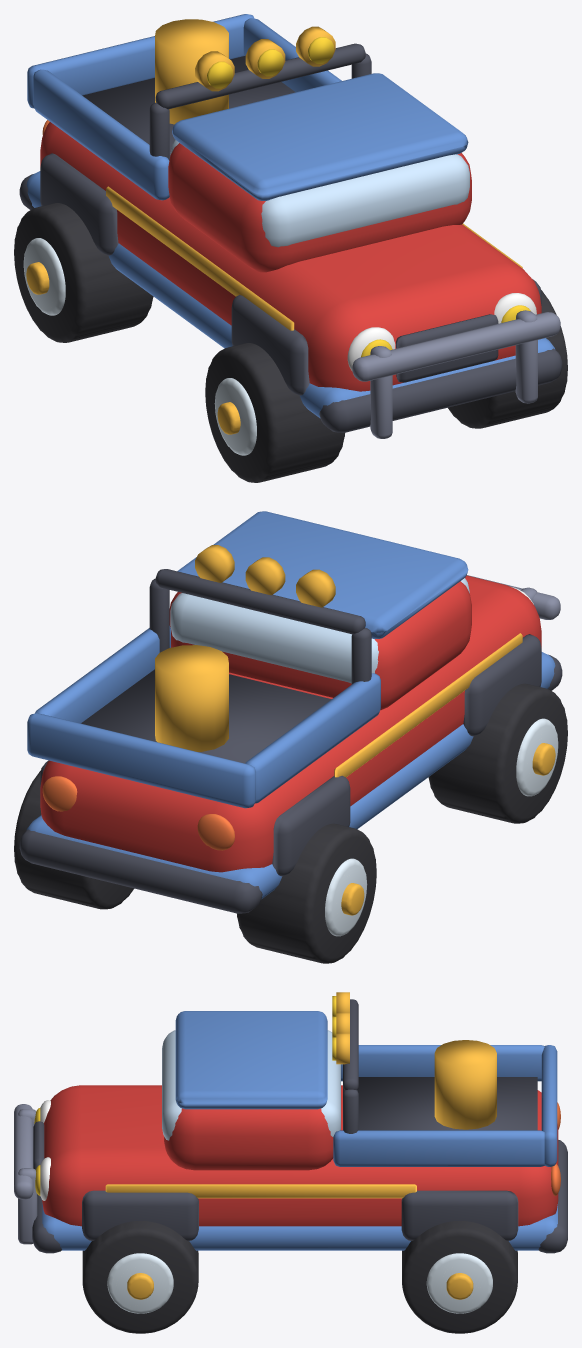
File: toy-mule.glb
3 renders of one model, top to bottom at view 1: azimuth 30°, elevation 25°; view 2: azimuth 150°, elevation 25°; view 3: azimuth 270°, elevation 25°, orthographic. The views are drawn at different scales.
Parts seen in each view (by area): view 1: body, wheel-back-right, wheel-front-right, grill, wheel-front-left; view 2: body, wheel-front-right, wheel-back-right, wheel-back-left, grill; view 3: body, wheel-front-left, wheel-back-left, grill.
Boxes of the visible parts, x1=… form: body: x1=19, y1=14, x2=562, y2=432; wheel-back-right: x1=14, y1=203, x2=153, y2=342; wheel-front-right: x1=205, y1=343, x2=344, y2=482; grill: x1=352, y1=310, x2=560, y2=438; wheel-front-left: x1=448, y1=290, x2=567, y2=428; body: x1=19, y1=511, x2=562, y2=913; wheel-front-right: x1=428, y1=683, x2=567, y2=823; wheel-back-right: x1=237, y1=823, x2=376, y2=963; wheel-back-left: x1=14, y1=770, x2=134, y2=909; grill: x1=467, y1=575, x2=560, y2=619; body: x1=32, y1=992, x2=567, y2=1253; wheel-front-left: x1=82, y1=1221, x2=198, y2=1333; wheel-back-left: x1=402, y1=1221, x2=517, y2=1333; grill: x1=14, y1=1104, x2=44, y2=1244.
Size of the model in its own units: 1.61 by 1.48 by 2.84.
1 material, 1 textured.
